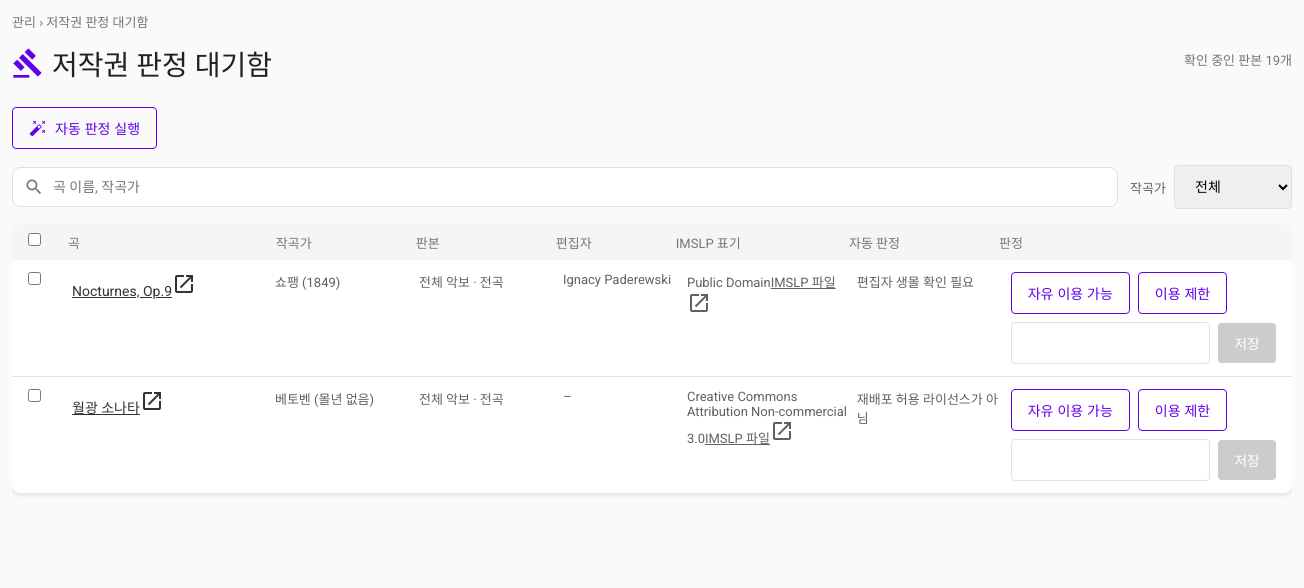
CopyrightPendingPage — 자동 판정 실행 (02 §5-11) › 실행이 실패하면 안내하고 되돌리기 버튼을 만들지 않는다
Click the button "자동 판정 실행": [85, 128] box [12,107,157,149]
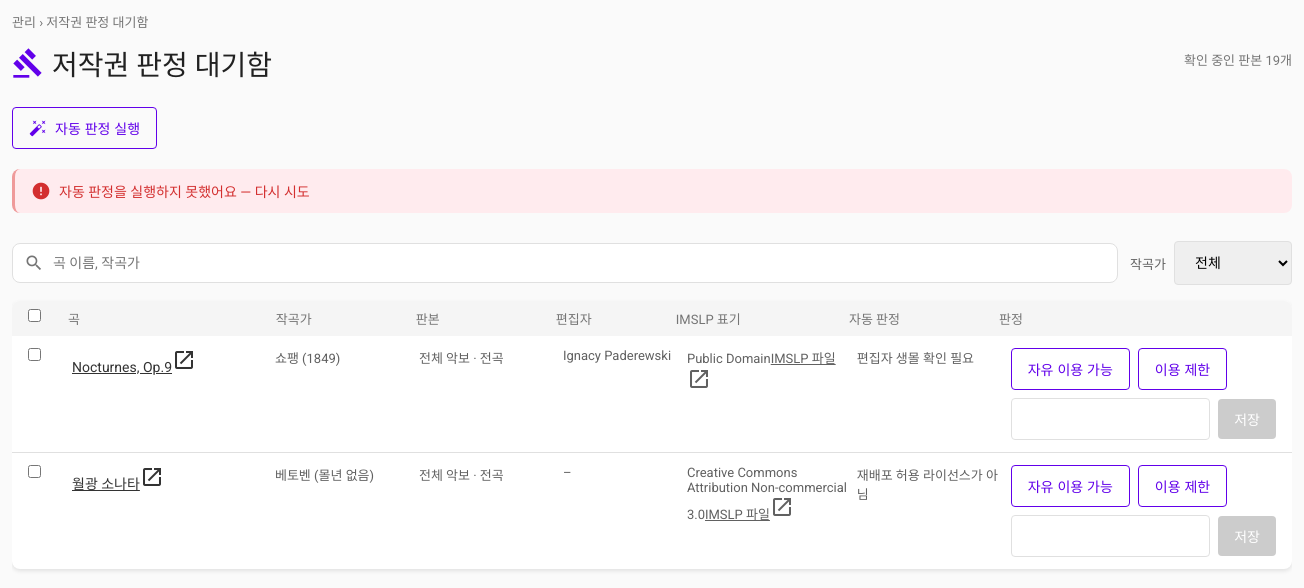
Check: the text "자동 판정을 실행하지 못했어요" is shown, box [59,184,310,200]
